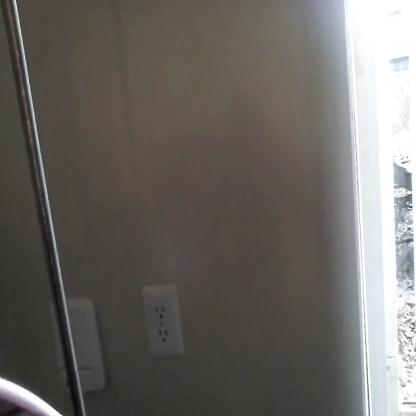OUTLET: (143, 286, 183, 357)
